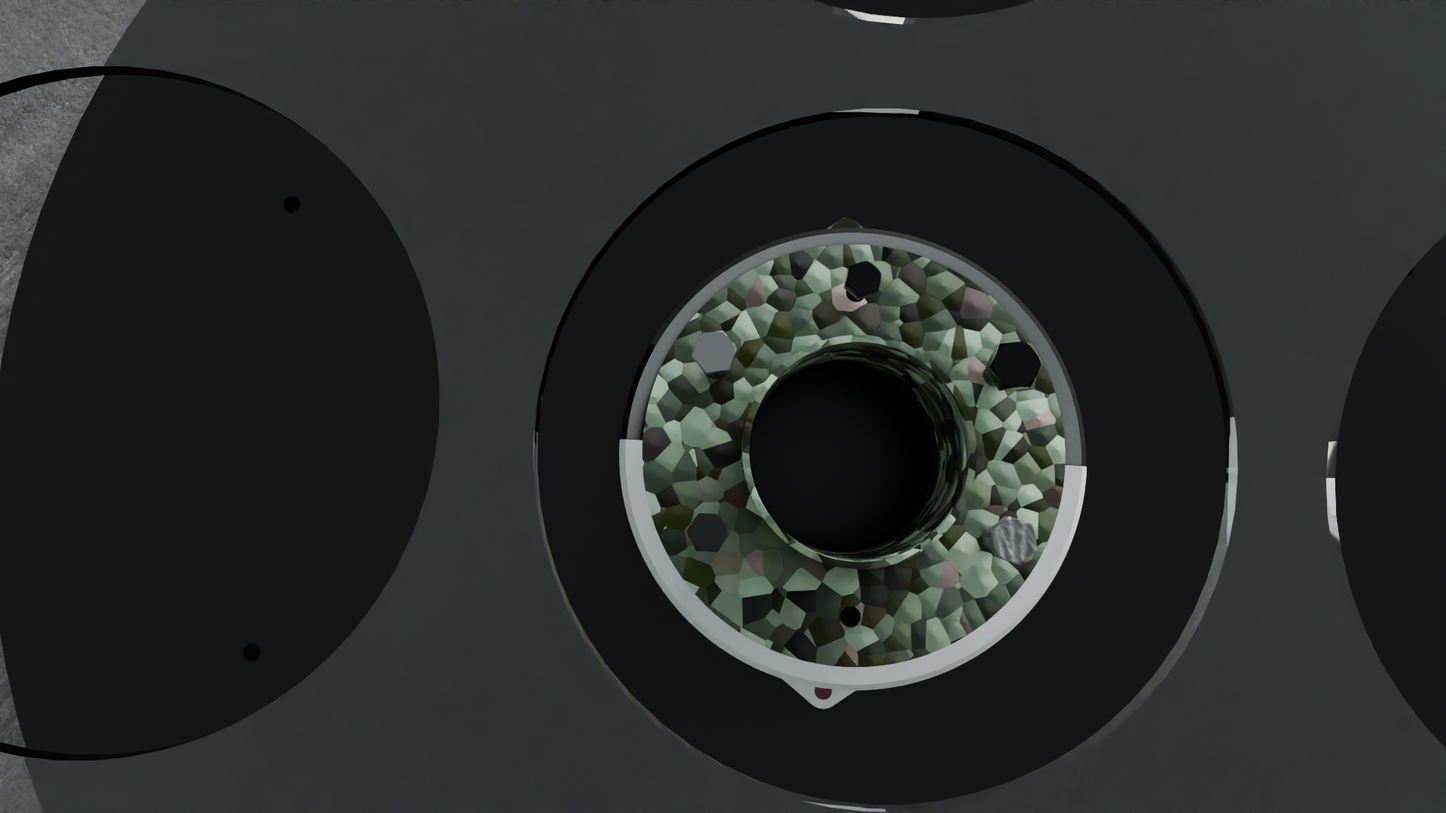bolt: (990, 342, 1041, 389), (991, 516, 1038, 565), (692, 330, 737, 373), (687, 513, 730, 552), (845, 260, 881, 297)
